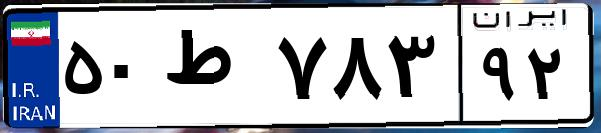0: (110, 28, 158, 98)
2: (525, 38, 570, 115)
3: (385, 28, 445, 110)
5: (57, 26, 110, 100)
7: (270, 28, 330, 110)
8: (330, 28, 385, 110)
9: (475, 38, 525, 113)
ط: (158, 20, 270, 120)
